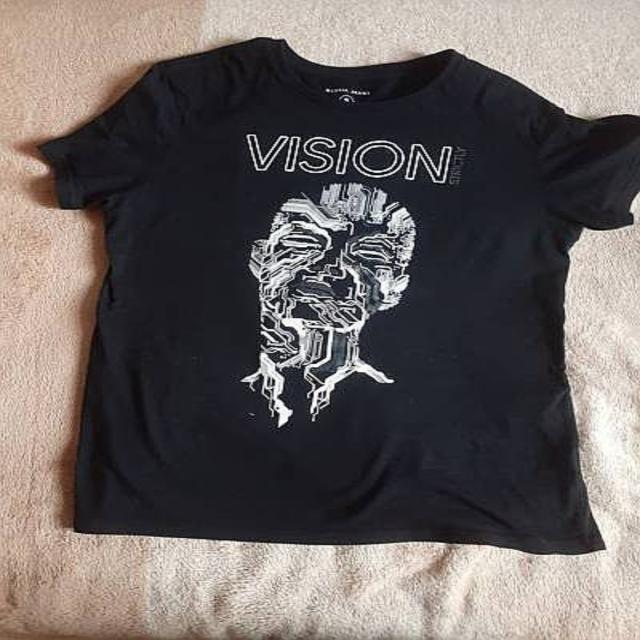T_SHIRT: (30, 29, 640, 566)
